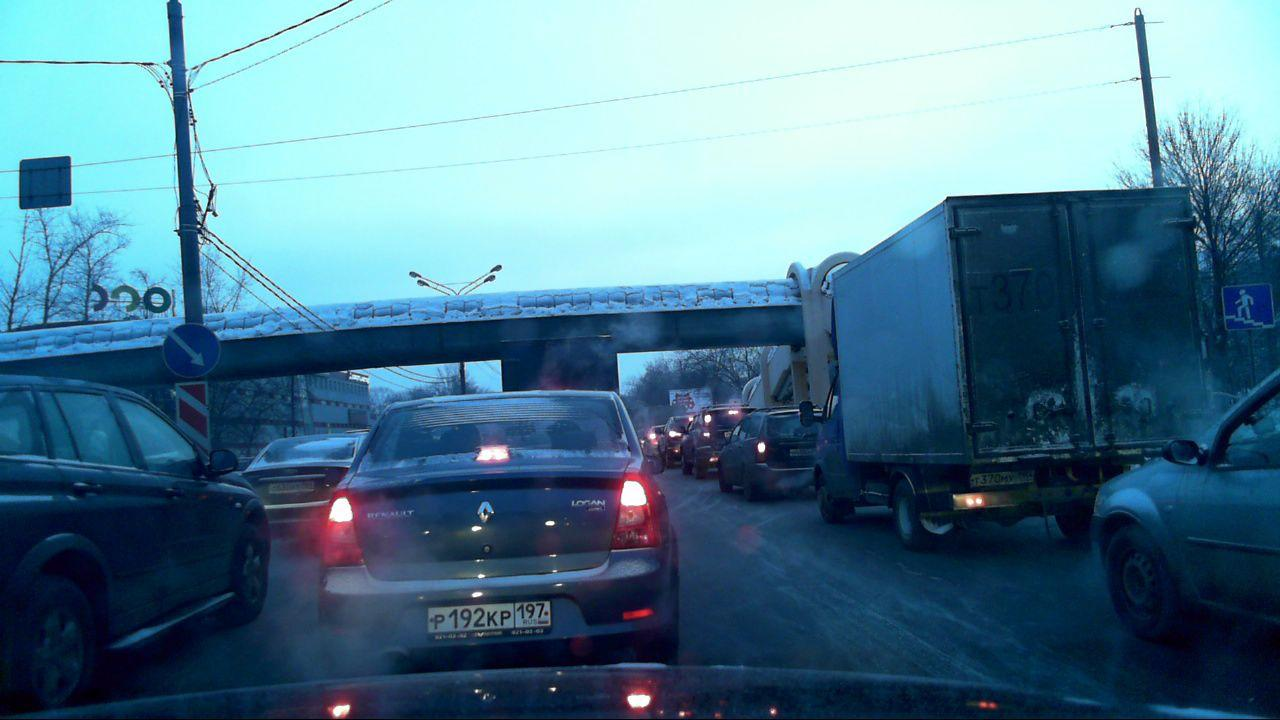4_2_1: (164, 324, 222, 379)
6_7: (1220, 282, 1276, 334)
8_22_1: (174, 381, 212, 453)
